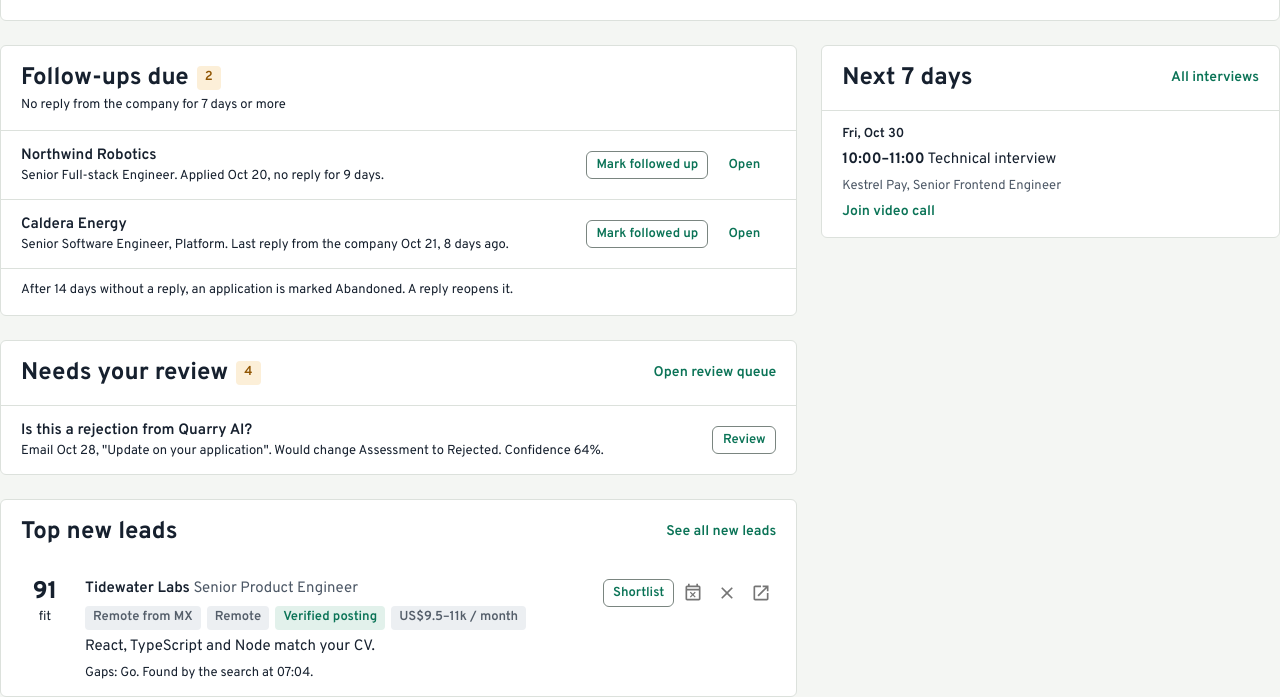
TodayPage › Top new leads › Dismiss patches the lead with its version, says so, and Undo puts it back to new
The image size is (1280, 697).
(page scrolled)
Click the button named "Dismiss lead". click: coordinates (727, 593)
box: top-left (712, 578), bottom-right (742, 608)
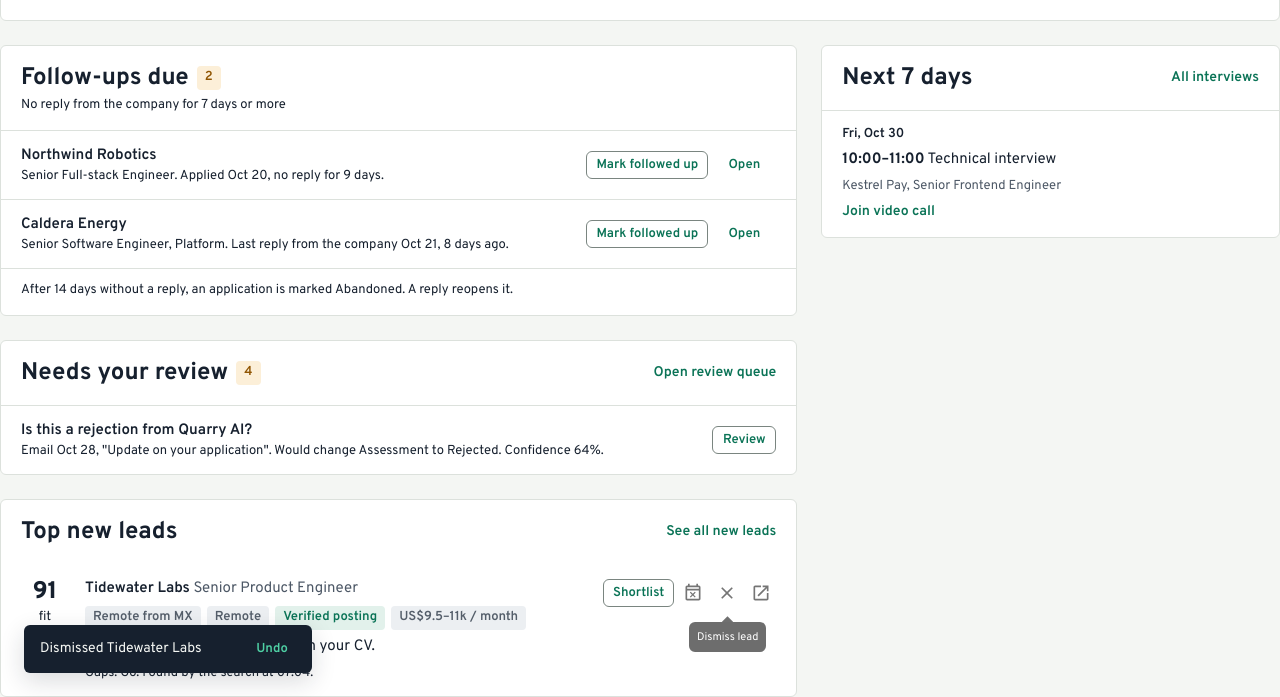
expect the text "Dismissed Tidewater Labs" is shown: met, box top-left (40, 640), bottom-right (202, 657)
Click the button "Undo". click: coordinates (272, 649)
box: top-left (240, 635), bottom-right (304, 663)
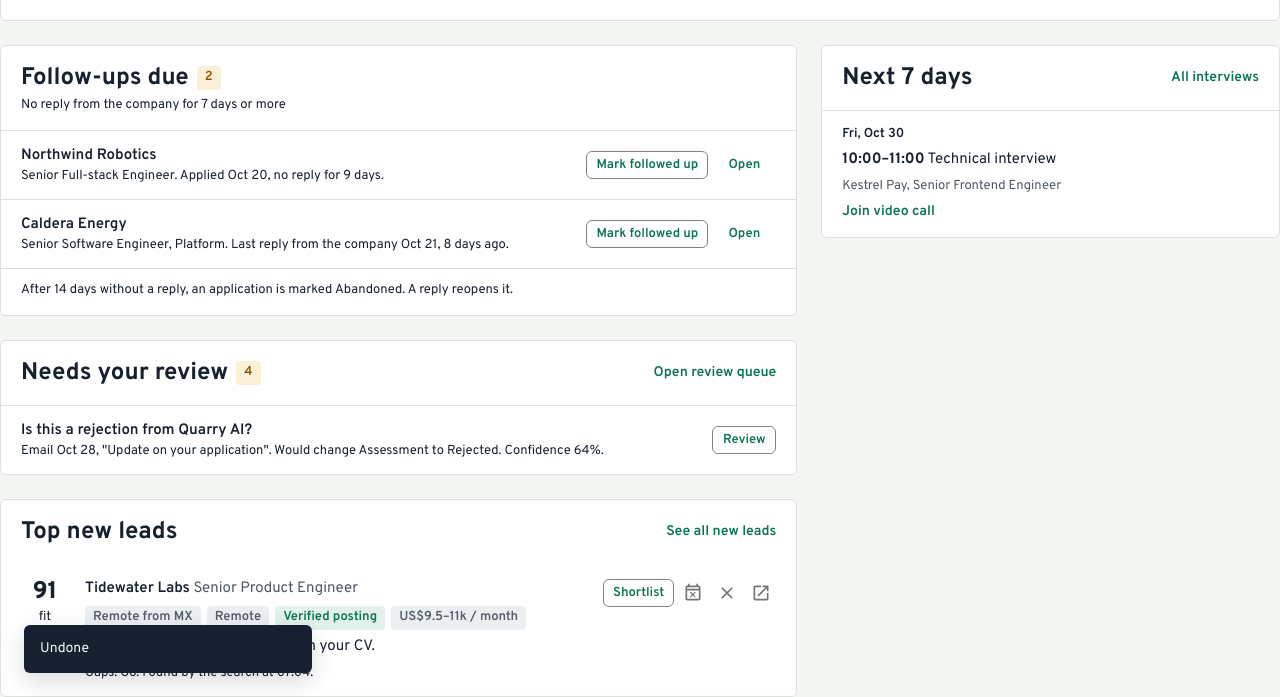
expect the text "Undone" is shown: met, box top-left (40, 640), bottom-right (89, 657)
